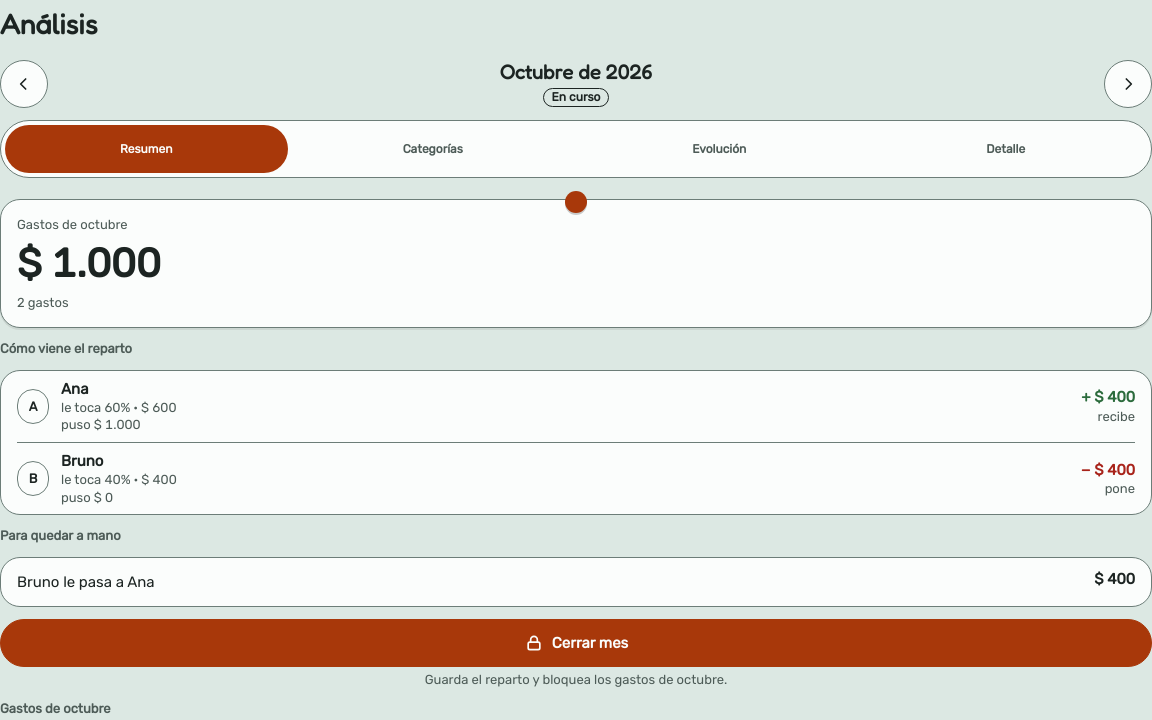
Test: Cancelar en la confirmación no cierra nada
Expected: the tab "Resumen" is shown, [5, 125, 288, 173]
Click the button "Cerrar mes" at (576, 643), box [0, 619, 1151, 667]
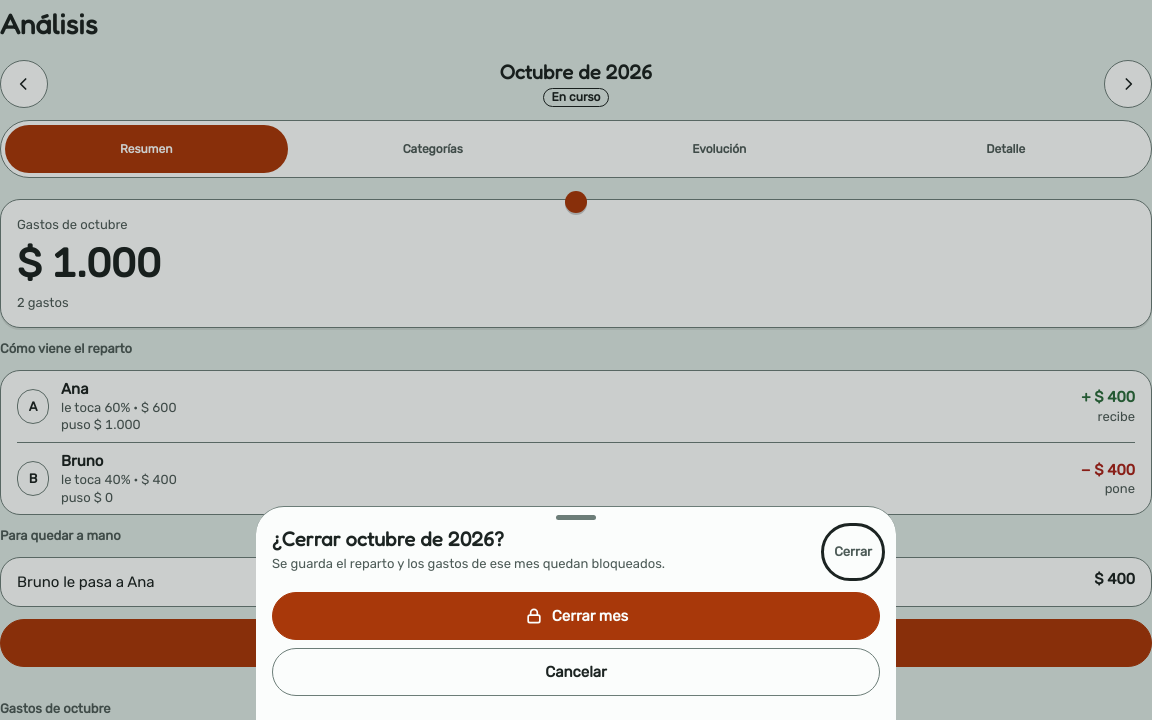
Click the button "Cancelar" at (576, 672), box [272, 648, 880, 696]
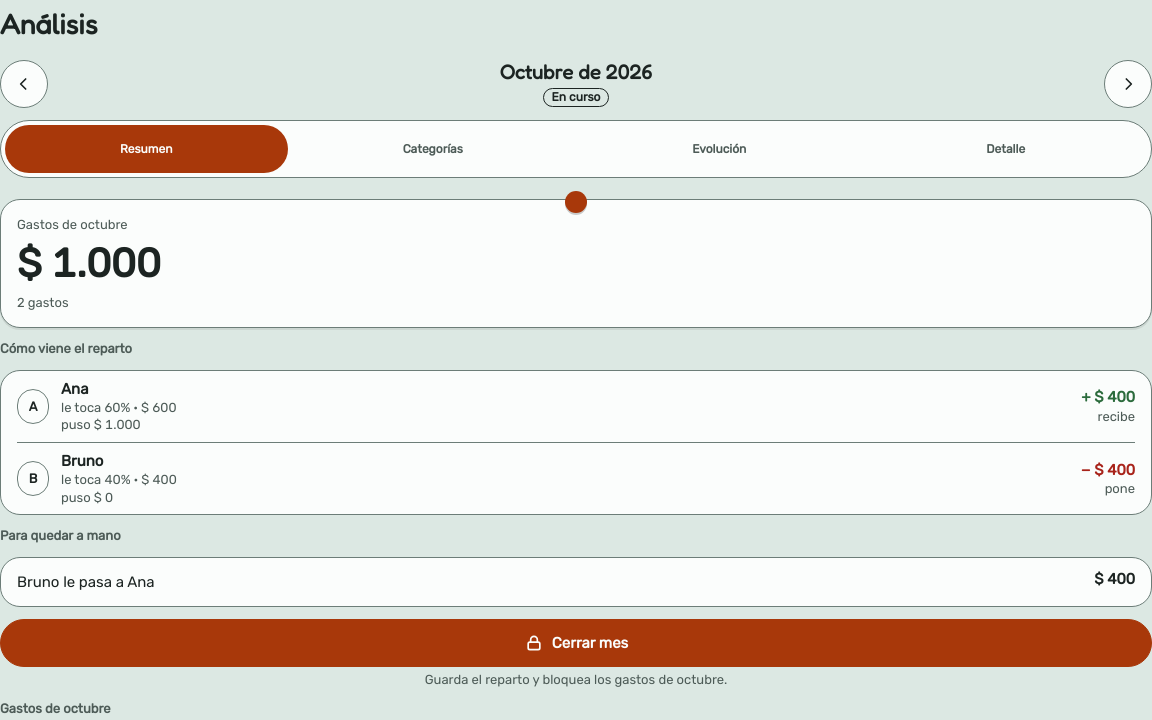
Expected: the dialog is gone
